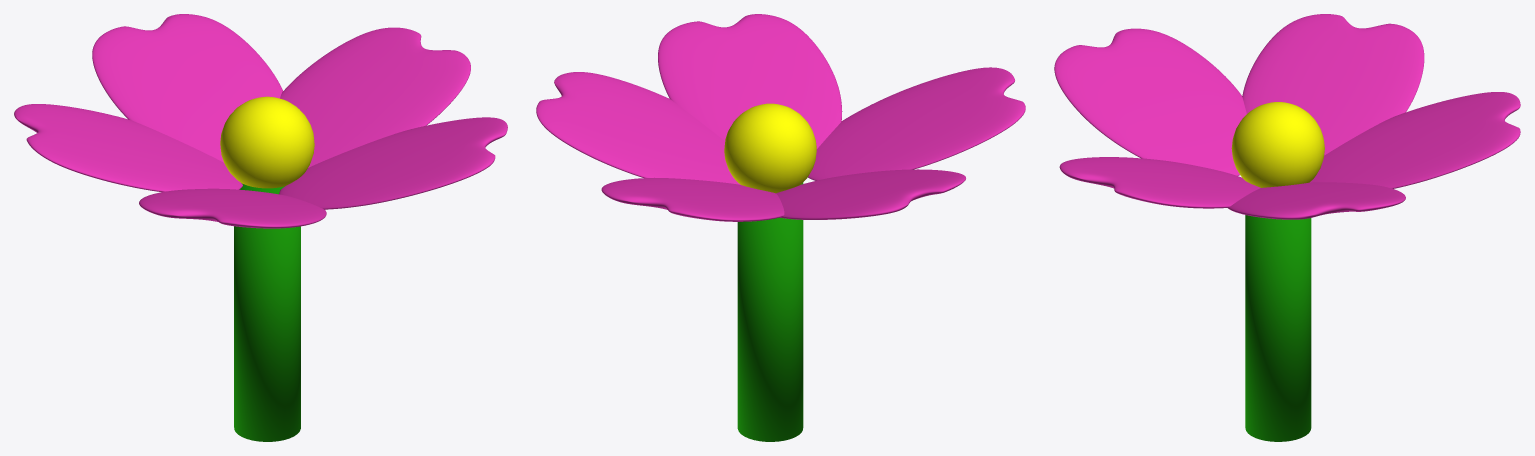
The model's file is PinkFlower.fbx.
3 views of the same model, side by side, from view 1: azimuth 30°, elevation 25°; view 2: azimuth 150°, elevation 25°; view 3: azimuth 270°, elevation 25° (orthographic). The views are drawn at different scales.
Visible parts, largest first — view 1: PinkFlower; view 2: PinkFlower; view 3: PinkFlower.
Part boxes in pixels (x1,y1,x2,y2): PinkFlower: (14, 14, 507, 441); PinkFlower: (536, 14, 1025, 441); PinkFlower: (1054, 14, 1520, 441).
Size of the model in its own units: 46.73 by 34.7 by 45.56.
